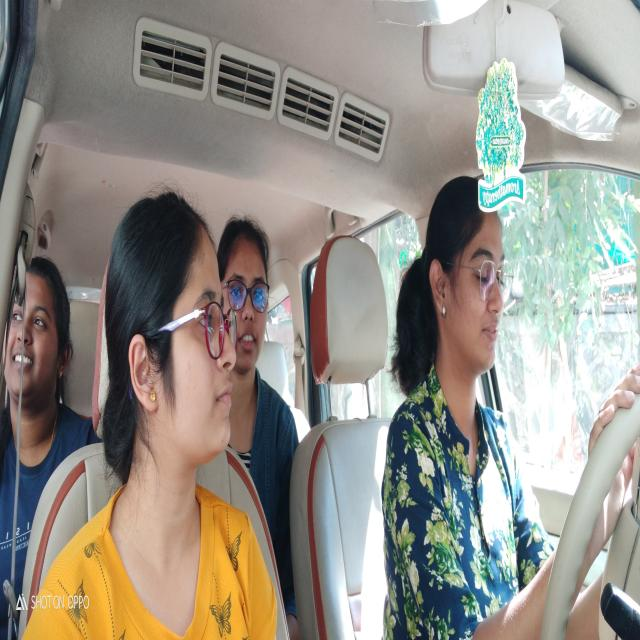drowsy: (429, 190, 505, 377)
person: (117, 210, 236, 460), (222, 219, 270, 375), (8, 268, 56, 397)
